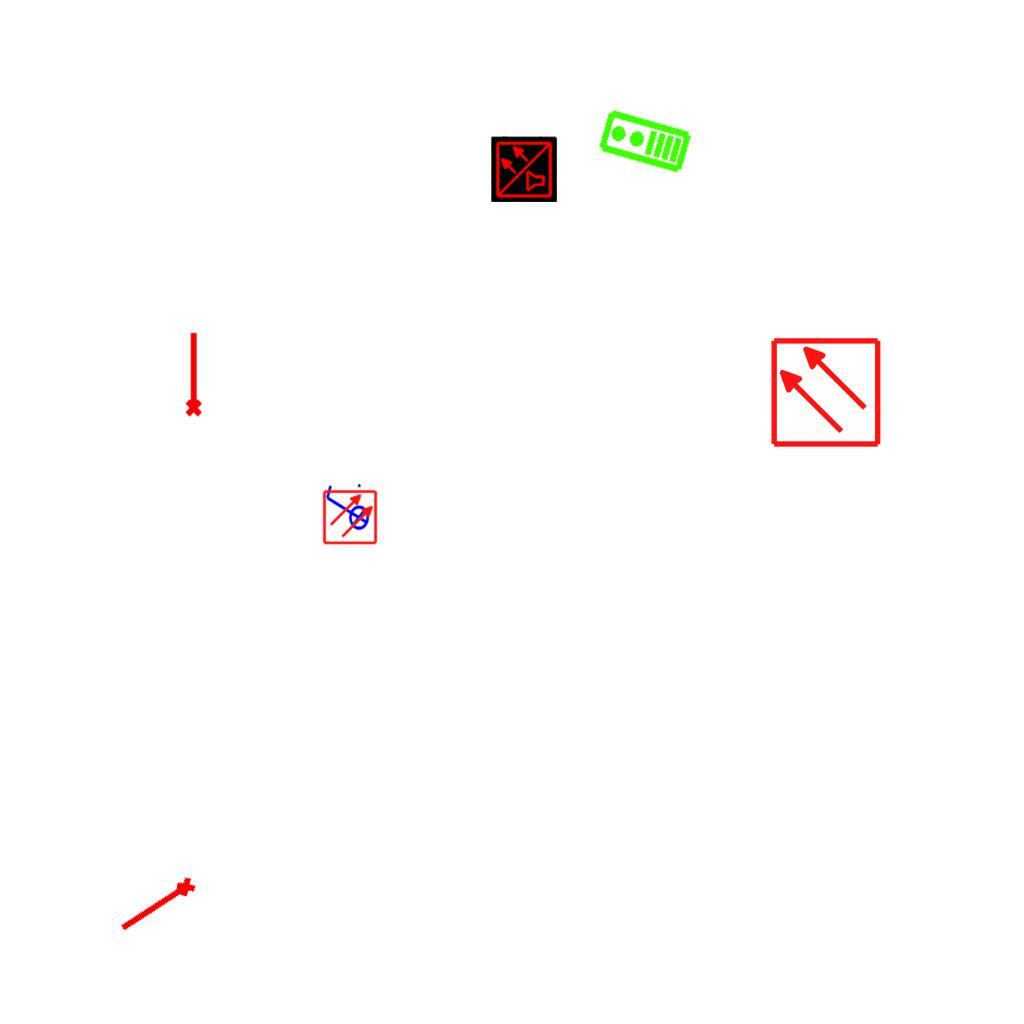ASR_Ansaugoeffnung: (114, 872, 202, 941), (181, 330, 204, 418)
Ausschalter_beleuchtet: (322, 481, 370, 537)
Gegensprechanlage_mit_Video: (595, 107, 694, 177)
OKW_Multisensormelder_(Kombination_optischer_Rauch-Kahlenmonoxid_Waerme-Melder): (491, 136, 557, 202)
RMO_Rauchmelder_optischer: (769, 336, 882, 449), (322, 489, 378, 545)
